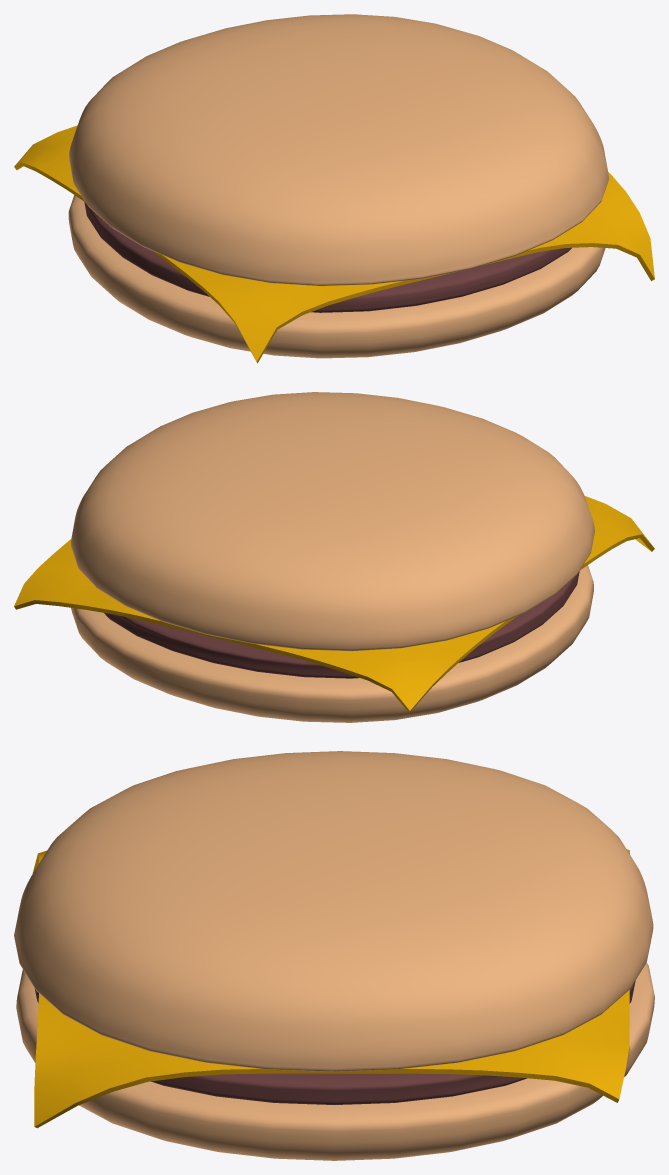
The model's file is hamburger.glb.
3 views of the same model, one above another, from view 1: azimuth 30°, elevation 25°; view 2: azimuth 150°, elevation 25°; view 3: azimuth 270°, elevation 25° (orthographic). The views are drawn at different scales.
Parts seen in each view (by area): view 1: Cube.003, Cube, Plane, Cube.001; view 2: Cube.003, Cube, Plane, Cube.001; view 3: Cube.003, Cube, Plane, Cube.001.
Part boxes in pixels (x1,y1,x2,y2): Cube.003: (69, 14, 608, 285); Cube: (68, 195, 605, 358); Plane: (14, 125, 654, 363); Cube.001: (84, 202, 571, 312); Cube.003: (71, 392, 594, 651); Cube: (71, 565, 593, 722); Plane: (14, 496, 654, 712); Cube.001: (104, 571, 579, 678); Cube.003: (14, 751, 653, 1071); Cube: (16, 962, 654, 1160); Plane: (32, 849, 629, 1128); Cube.001: (34, 980, 635, 1104).
Bounding box in the file's own units: 9.06 × 3.58 × 9.09.
